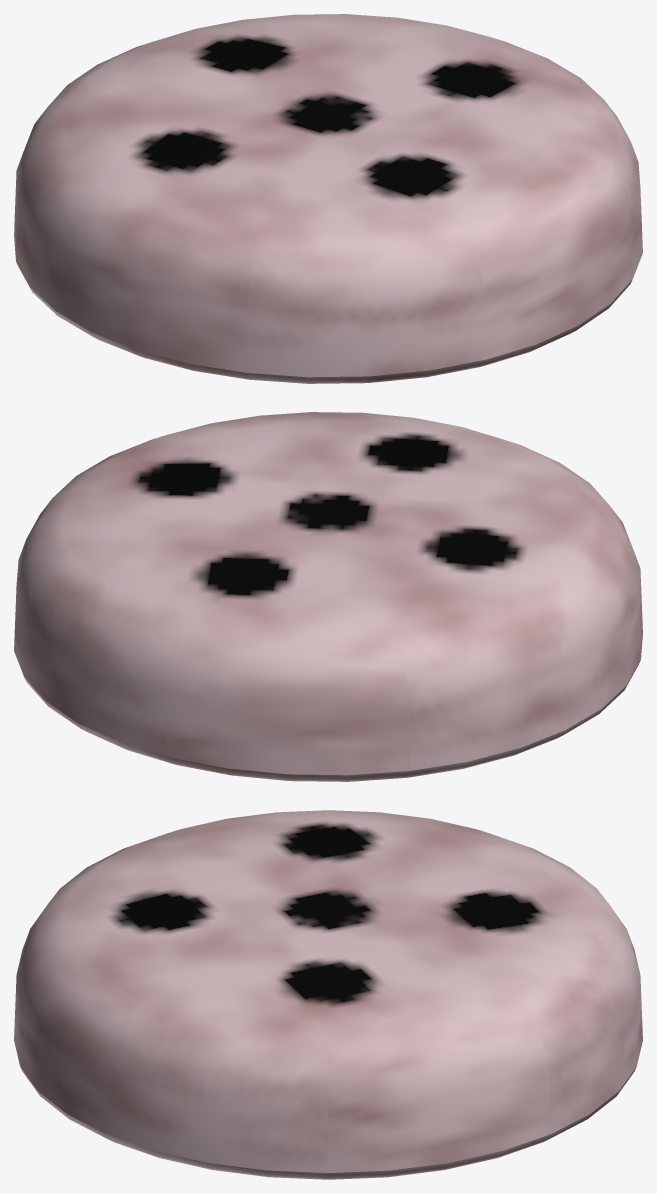
File: WhitePiece.glb
3 views of the same model, one above another, from view 1: azimuth 30°, elevation 25°; view 2: azimuth 150°, elevation 25°; view 3: azimuth 270°, elevation 25° (orthographic).
Parts seen in each view (by area): view 1: White Piece; view 2: White Piece; view 3: White Piece.
Part boxes in pixels (x1,y1,x2,y2): White Piece: [14, 14, 642, 383]; White Piece: [14, 412, 642, 781]; White Piece: [14, 810, 642, 1179].
Bounding box in the file's own units: 0.5664 × 0.1507 × 0.5664.
1 material, 1 textured.
